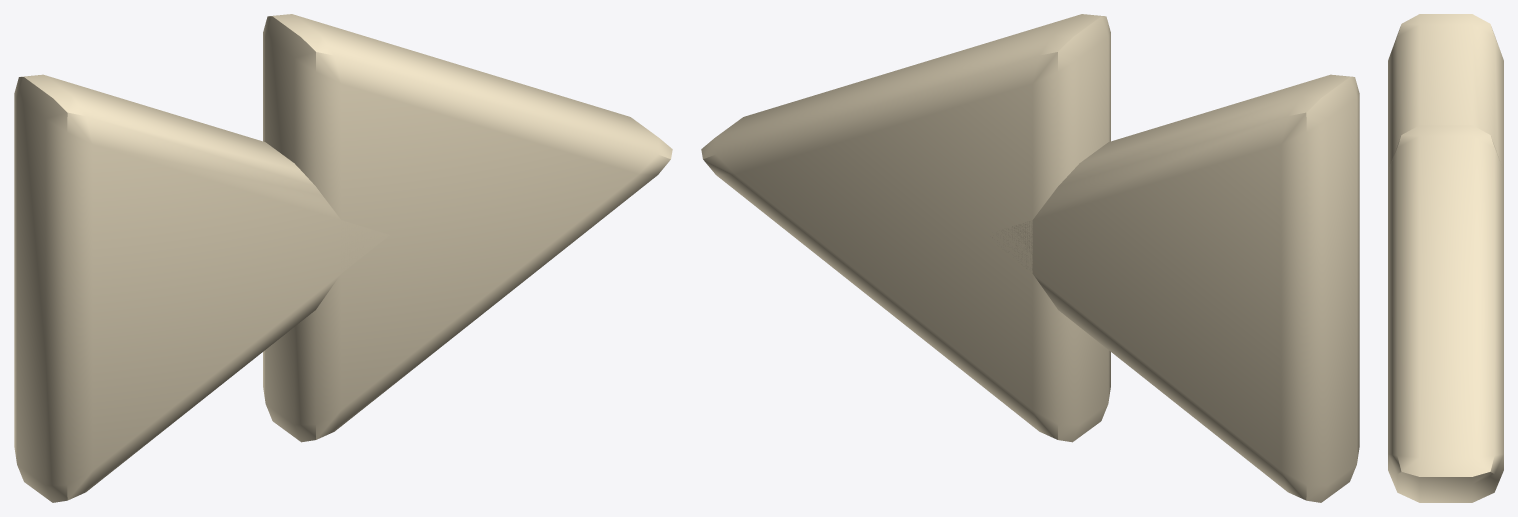
File: icon_speed.glb
3 renders of one model, left to right at view 1: azimuth 30°, elevation 25°; view 2: azimuth 150°, elevation 25°; view 3: azimuth 270°, elevation 25°, orthographic. The views are drawn at different scales.
Visible parts, largest first — view 1: Speed; view 2: Speed; view 3: Speed.
Part boxes in pixels (<box>): Speed: <box>14,14,672,502</box>; Speed: <box>701,14,1359,502</box>; Speed: <box>1388,14,1503,502</box>.
Size of the model in its own units: 1.26 by 0.7782 by 0.22.
Materials: 1 (1 with a texture image).
